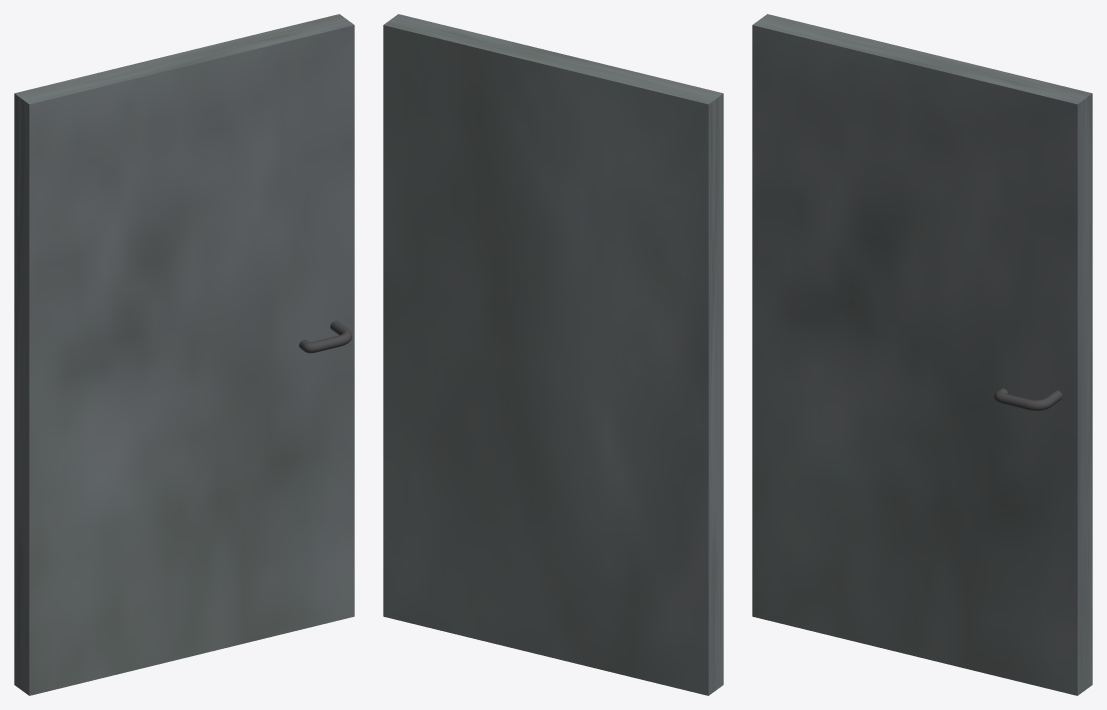
File: Door.fbx
The picture shows the model from 3 angles, left to right: view 1: azimuth 30°, elevation 25°; view 2: azimuth 150°, elevation 25°; view 3: azimuth 330°, elevation 25°; orthographic projection.
Parts seen in each view (by area): view 1: Door, Handle; view 2: Door; view 3: Door, Handle.
Part boxes in pixels (<box>): Door: <box>14,14,354,695</box>; Handle: <box>299,320,352,353</box>; Door: <box>383,14,723,695</box>; Door: <box>752,14,1092,695</box>; Handle: <box>994,388,1062,410</box>.
Size of the model in its own units: 815 by 1416 by 152.
Materials: 2 (1 with a texture image).
